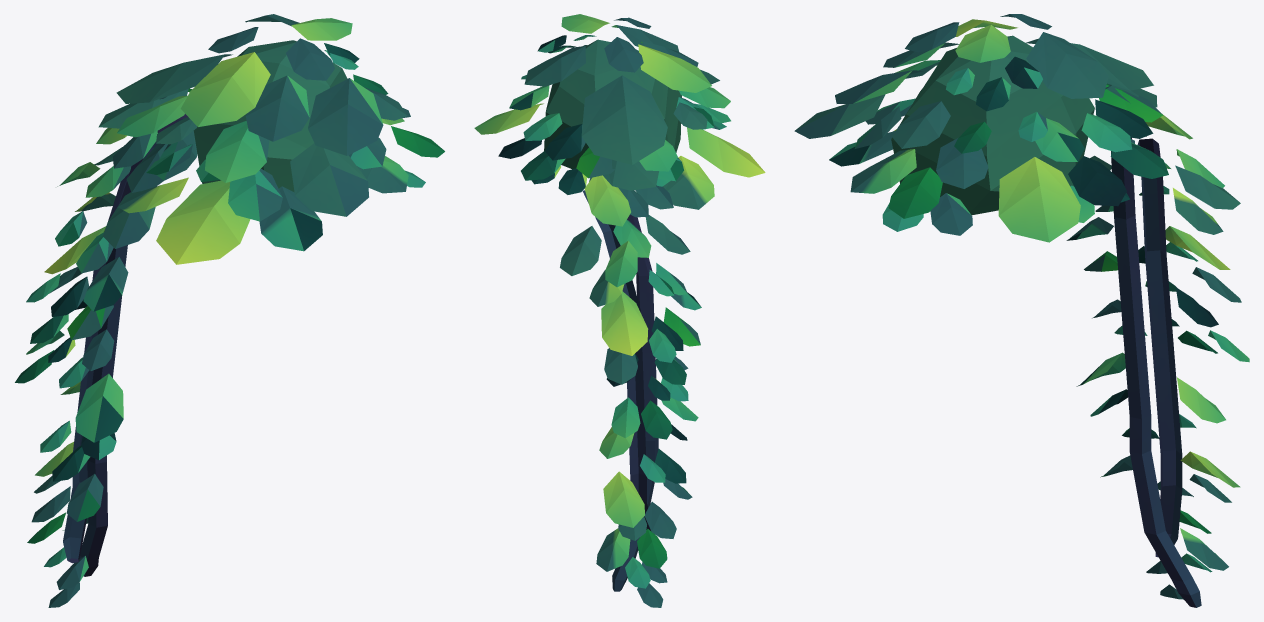
The model's file is Bush_Vines03.fbx.
3 renders of one model, left to right at view 1: azimuth 30°, elevation 25°; view 2: azimuth 150°, elevation 25°; view 3: azimuth 270°, elevation 25°, orthographic. The views are drawn at different scales.
Visible parts, largest first — view 1: Vines (Long); view 2: Vines (Long); view 3: Vines (Long).
Part boxes in pixels (box(x1,y1,x2,y2)): Vines (Long): box(15, 14, 444, 607); Vines (Long): box(474, 14, 765, 607); Vines (Long): box(794, 14, 1249, 607).
Bounding box in the file's own units: 62.24 × 116 × 73.06.
